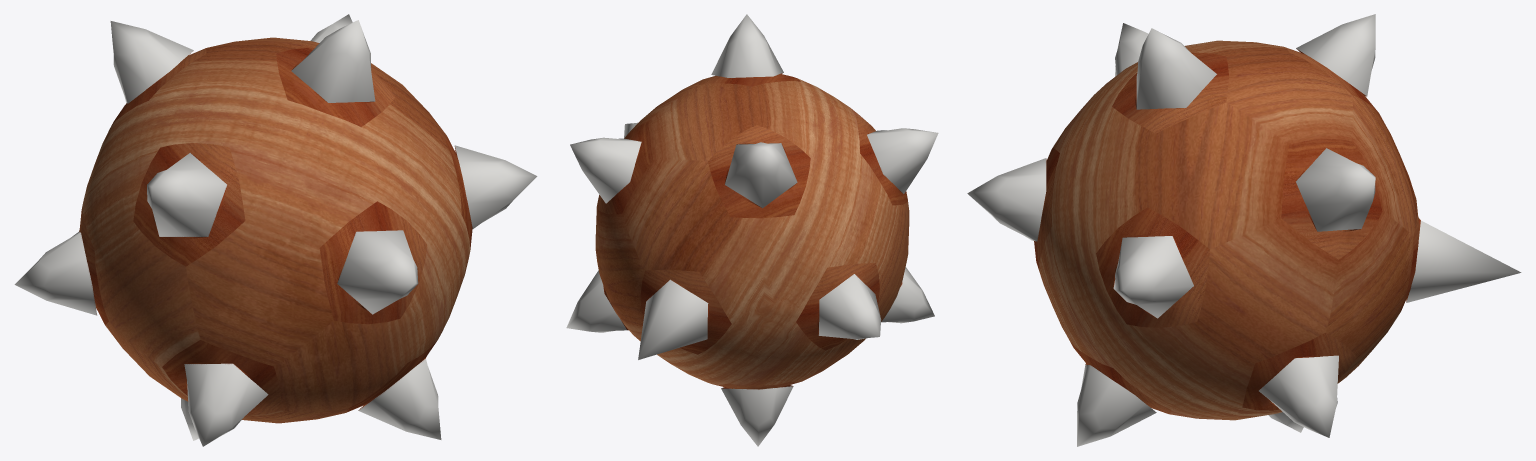
Rendered from iron_ball.fbx.
3 views of the same model, side by side, from view 1: azimuth 30°, elevation 25°; view 2: azimuth 150°, elevation 25°; view 3: azimuth 270°, elevation 25° (orthographic). The views are drawn at different scales.
Visible parts, largest first — view 1: ball_2019_11:pSolid1; view 2: ball_2019_11:pSolid1; view 3: ball_2019_11:pSolid1.
Boxes of the visible parts, x1,y1,x2,y2 form: ball_2019_11:pSolid1: (14, 14, 537, 446); ball_2019_11:pSolid1: (566, 14, 938, 446); ball_2019_11:pSolid1: (967, 14, 1521, 446).
Size of the model in its own units: 4.5 by 4.68 by 5.25.
